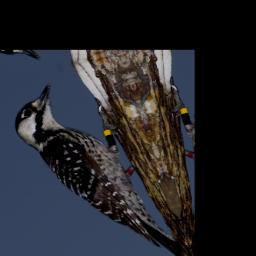Woodpecker: (2, 63, 188, 256)
